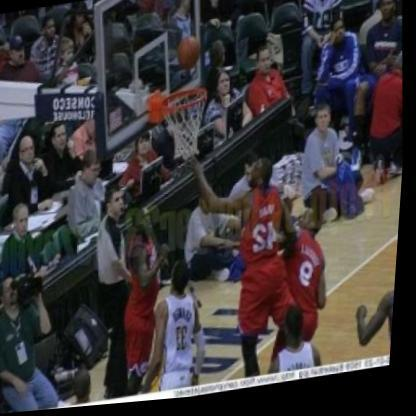basketball: (172, 32, 209, 77)
rim: (159, 88, 214, 168)
